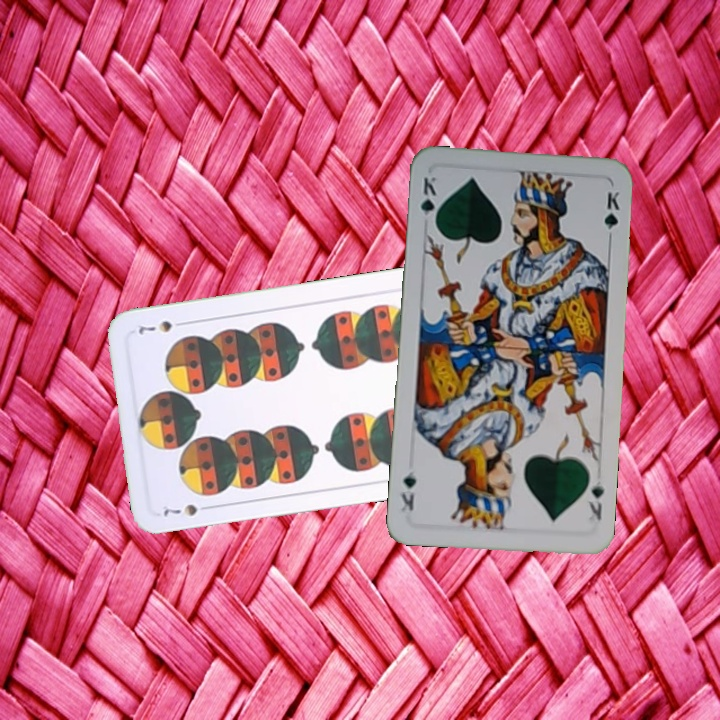GK: (416, 172, 439, 230), (583, 471, 606, 523)
S7: (158, 500, 215, 520)
